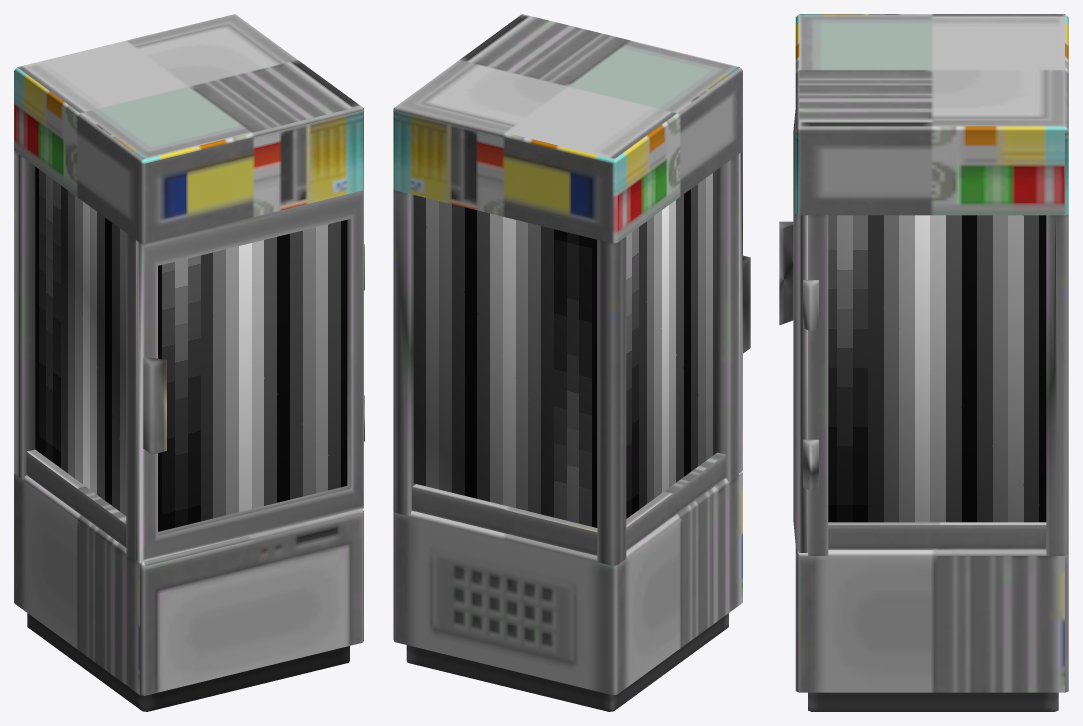
Rendered from int_oth_coldcase.dae.
The picture shows the model from 3 angles, left to right: view 1: azimuth 30°, elevation 25°; view 2: azimuth 150°, elevation 25°; view 3: azimuth 270°, elevation 25°; orthographic projection. The views are drawn at different scales.
Parts seen in each view (by area): view 1: int_oth_coldcase; view 2: int_oth_coldcase; view 3: int_oth_coldcase.
Boxes of the visible parts, left/top/right/bottom form: int_oth_coldcase: left=14, top=14, right=364, bottom=711; int_oth_coldcase: left=393, top=14, right=750, bottom=711; int_oth_coldcase: left=779, top=14, right=1068, bottom=711.
Bounding box in the file's own units: 19.12 × 44.24 × 19.73.
3 materials, 3 textured.
